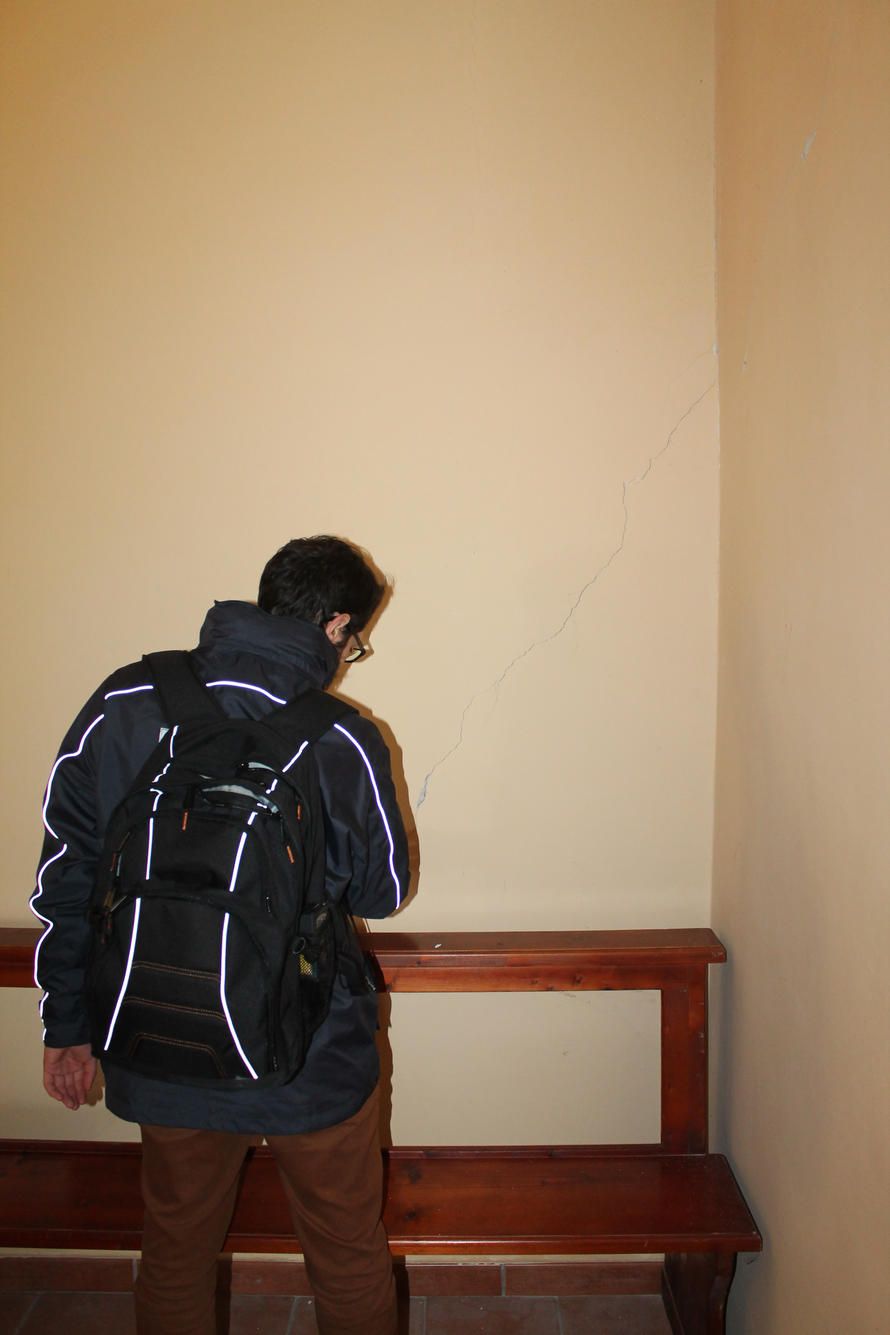Crack: (218, 360, 729, 1199)
